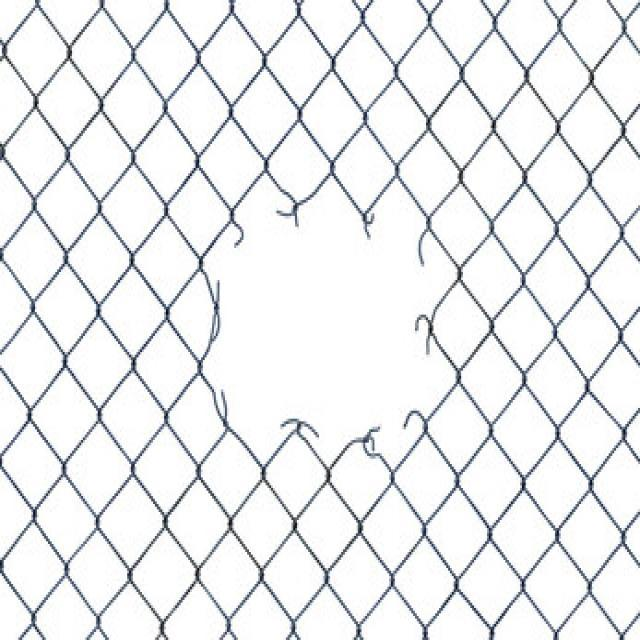fence line: (204, 180, 444, 471)
